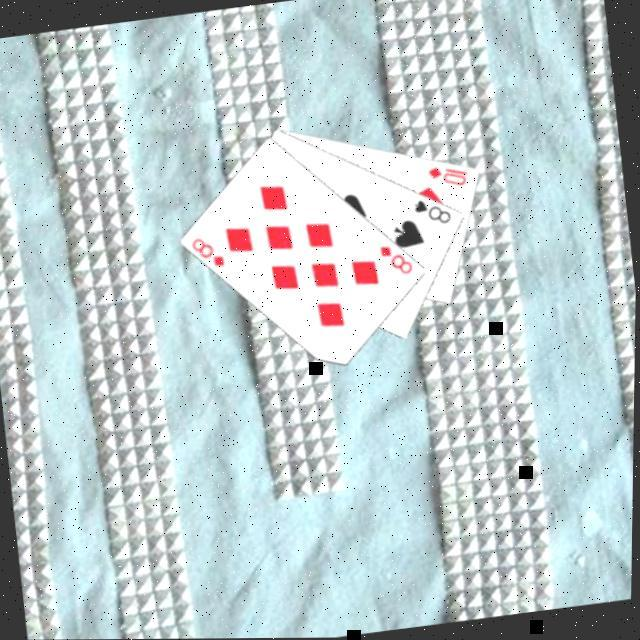10D: (426, 158, 474, 191)
8D: (378, 236, 419, 278), (190, 230, 230, 270)
8S: (412, 190, 458, 229)
